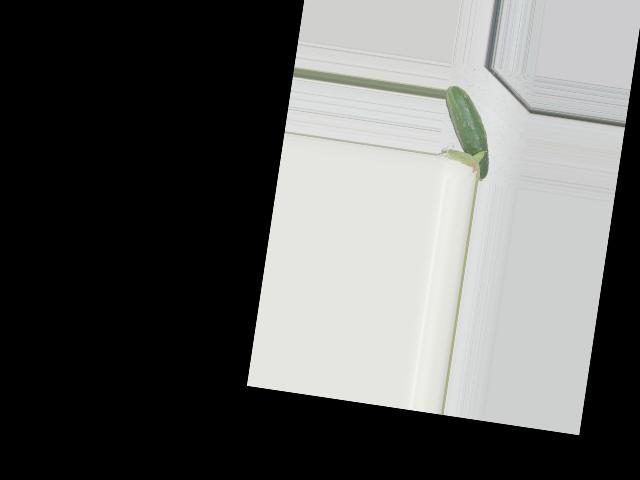cucumber: (433, 84, 499, 181)
